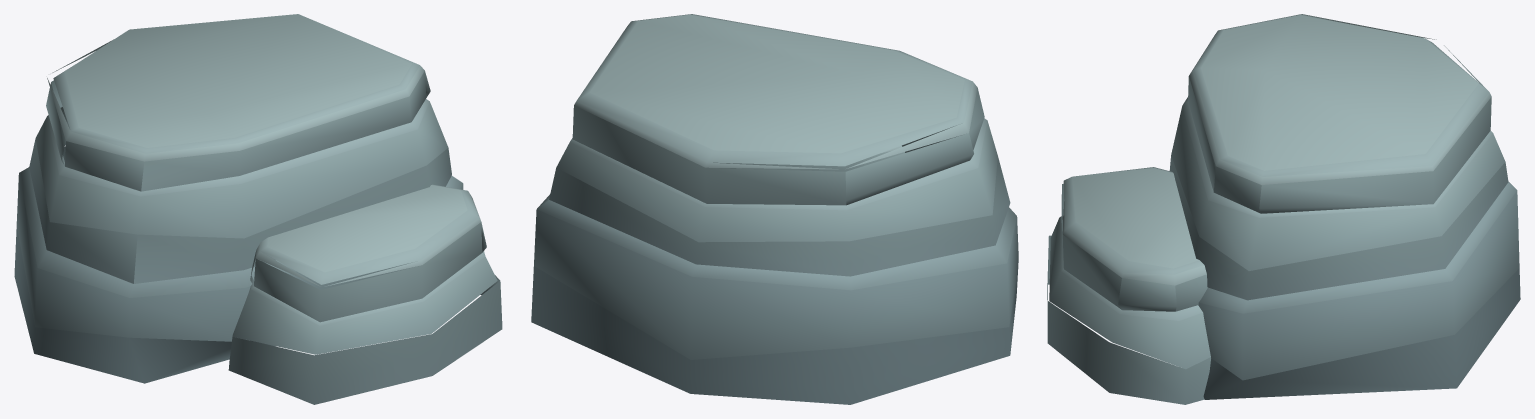
Rendered from rockSmall.glb.
3 renders of one model, left to right at view 1: azimuth 30°, elevation 25°; view 2: azimuth 150°, elevation 25°; view 3: azimuth 270°, elevation 25°, orthographic. The views are drawn at different scales.
Parts seen in each view (by area): view 1: rockSmall; view 2: rockSmall; view 3: rockSmall.
Part boxes in pixels (x1,y1,x2,y2): rockSmall: (14, 14, 502, 404); rockSmall: (531, 14, 1018, 404); rockSmall: (1047, 14, 1520, 404).
Bounding box in the file's own units: 0.9978 × 0.5045 × 0.9962.
Materials: 1 (1 with a texture image).
